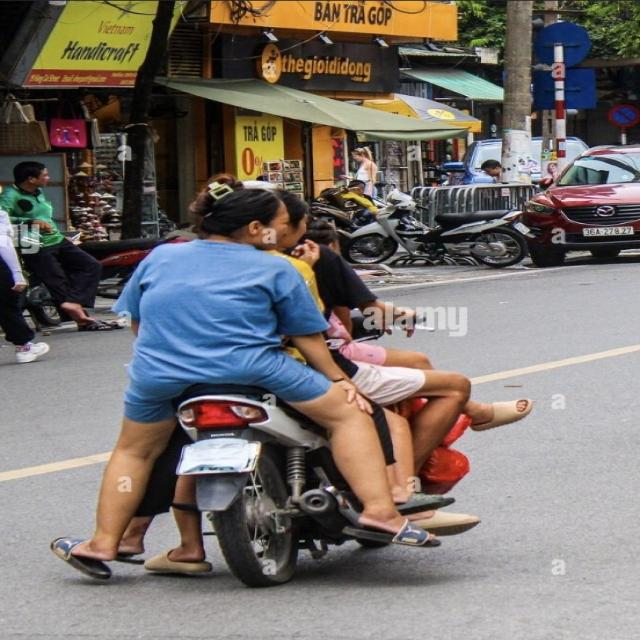WithoutHelmet: (47, 172, 443, 580), (282, 202, 473, 535), (277, 217, 533, 433)
